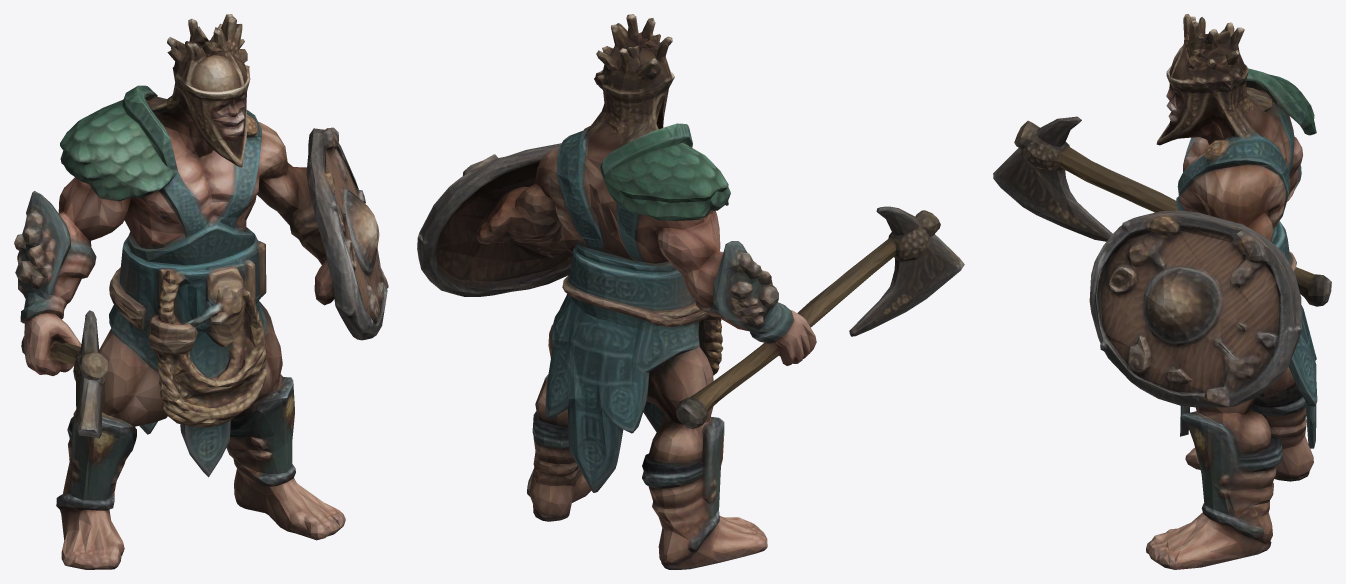
Rendered from naumachiaSailor.glb.
3 views of the same model, side by side, from view 1: azimuth 30°, elevation 25°; view 2: azimuth 150°, elevation 25°; view 3: azimuth 270°, elevation 25° (orthographic). The views are drawn at different scales.
Parts seen in each view (by area): view 1: world; view 2: world; view 3: world.
Part boxes in pixels (box(x1,y1,x2,y2)): world: box(14, 14, 388, 569); world: box(417, 14, 964, 569); world: box(993, 14, 1331, 569).
Bounding box in the file's own units: 0.8597 × 0.9967 × 0.6096.
1 material, 1 textured.
